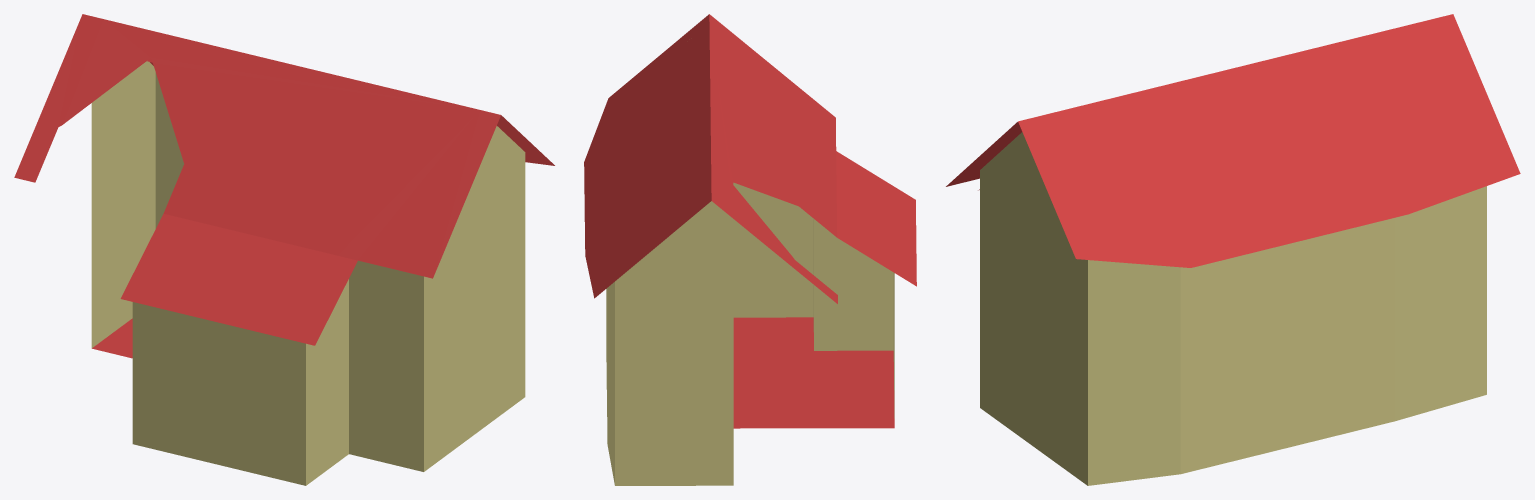
3 views of the same model, side by side, from view 1: azimuth 30°, elevation 25°; view 2: azimuth 150°, elevation 25°; view 3: azimuth 270°, elevation 25° (orthographic). The views are drawn at different scales.
Size of the model in its own units: 18.84 by 22.67 by 14.58.
